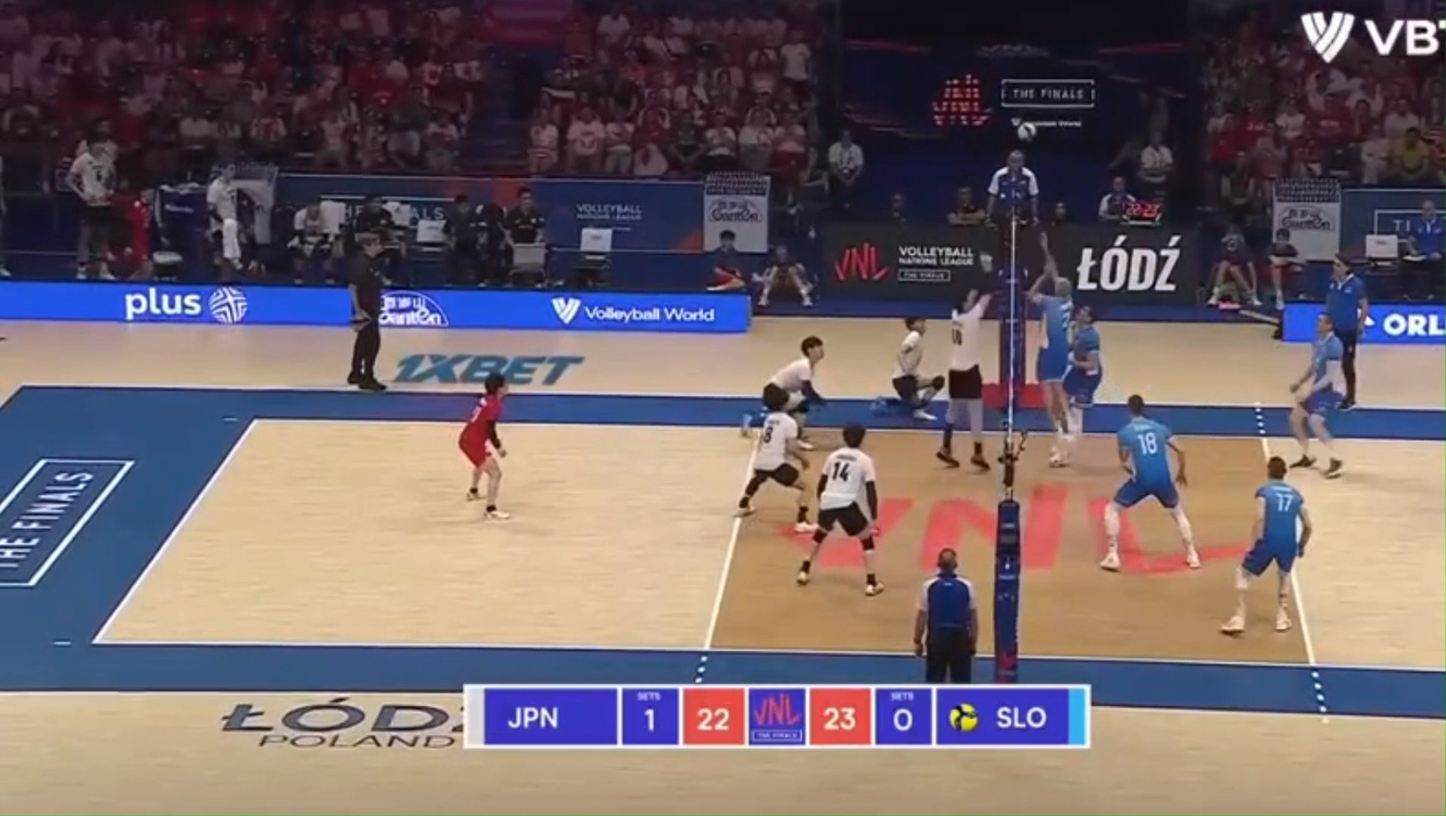ball: (1017, 122, 1036, 141)
player: (1100, 394, 1199, 571), (1221, 456, 1312, 635), (1027, 236, 1073, 440), (1289, 314, 1346, 478), (1052, 306, 1101, 466)
player 1: (796, 422, 882, 596), (737, 384, 810, 530), (936, 290, 991, 470), (459, 372, 509, 518), (759, 335, 824, 431), (891, 319, 944, 421)
referee: (913, 548, 977, 683), (1325, 255, 1368, 409), (348, 233, 386, 391), (987, 150, 1039, 233)
